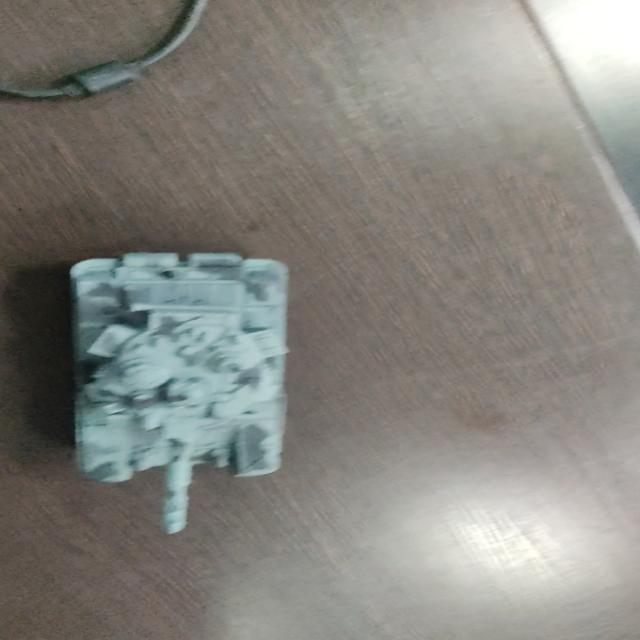tank: (64, 247, 291, 536)
